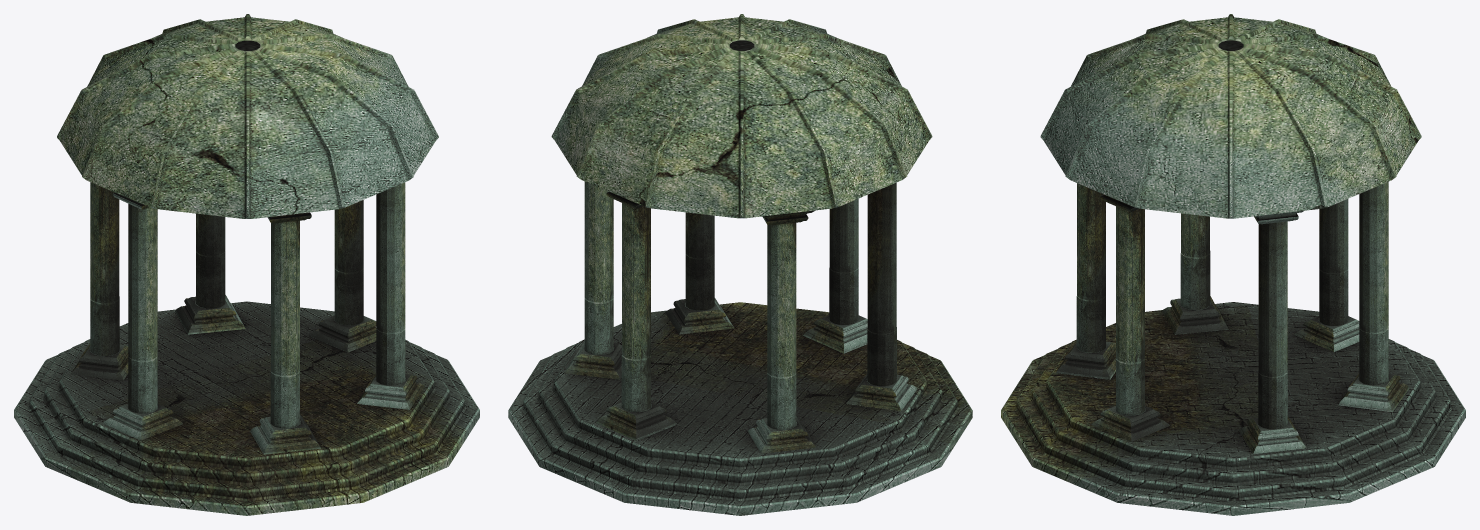
File: MiniTemple.FBX
3 renders of one model, left to right at view 1: azimuth 30°, elevation 25°; view 2: azimuth 150°, elevation 25°; view 3: azimuth 270°, elevation 25°, orthographic.
Parts seen in each view (by area): view 1: MiniTemple; view 2: MiniTemple; view 3: MiniTemple.
Boxes of the visible parts, box(x1,y1,x2,y2) form: MiniTemple: box(14, 14, 479, 515); MiniTemple: box(508, 14, 972, 515); MiniTemple: box(1001, 14, 1465, 515).
Bounding box in the file's own units: 90.86 × 80.54 × 90.86.
